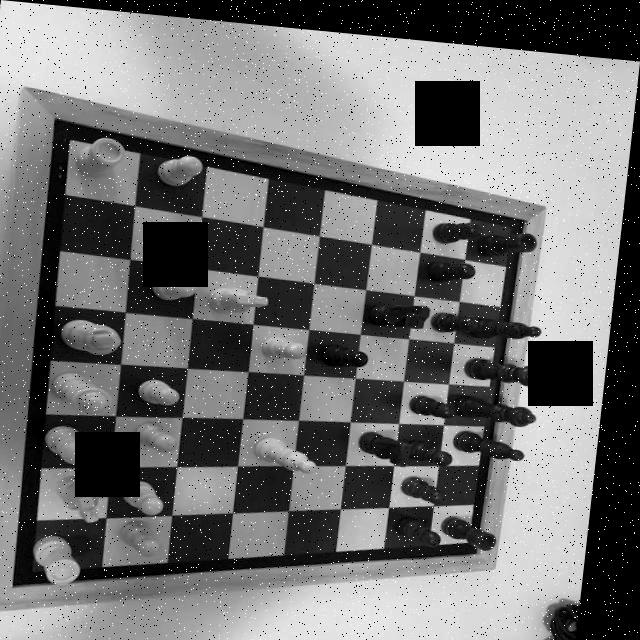chess-table-corners: (42, 105, 81, 136), (14, 578, 44, 596), (518, 200, 540, 224), (480, 537, 499, 552)
